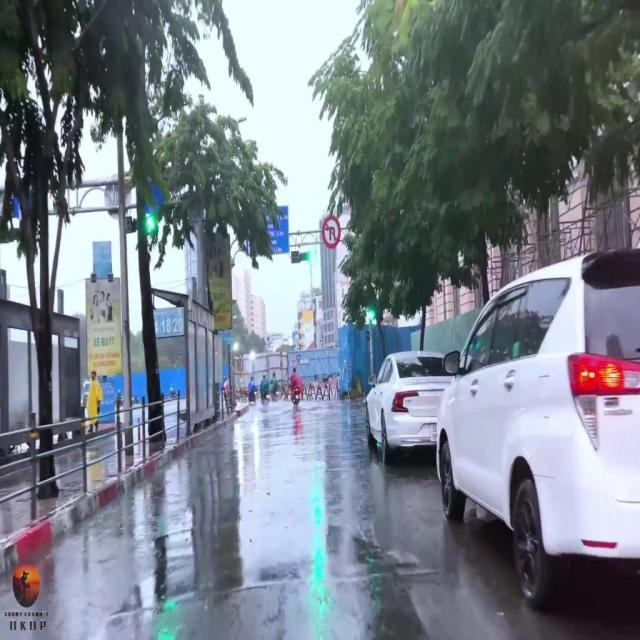124c-cam-re-trai-va-cam-quay-dau-xe: (322, 216, 341, 249)
